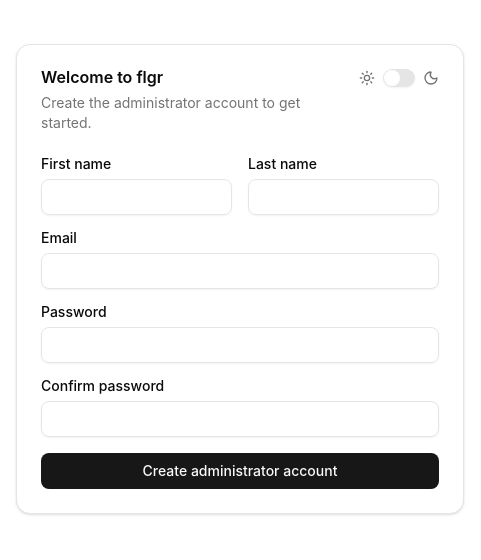
SetupWizardPage › shows an error when the email is malformed
Type "not-an-email" into the field labelled "Email".
click(240, 271); type("not-an-email")  # box [41,253,439,289]
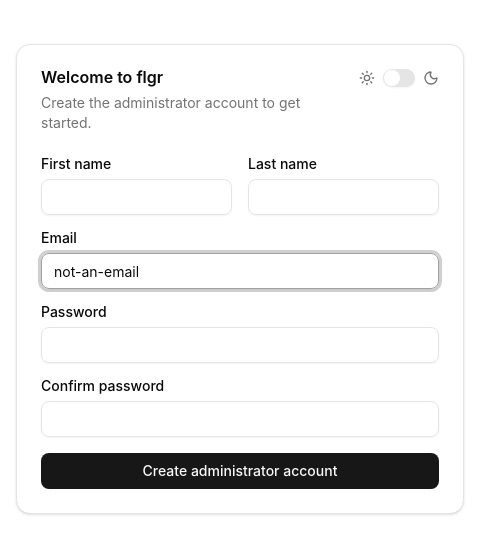
Type "supersecret" into the password field labelled "Password".
click(240, 345); type("supersecret")  # box [41,327,439,363]
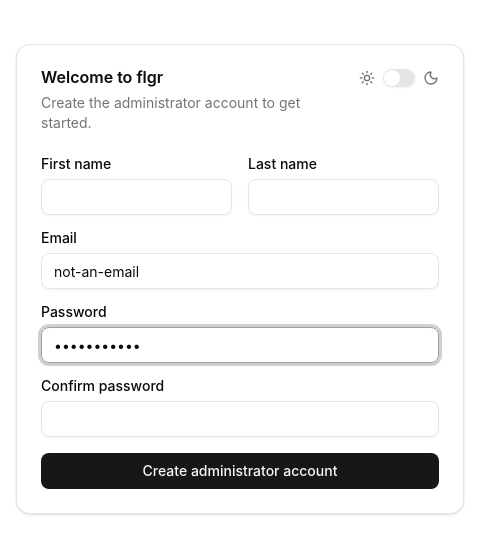
Type "supersecret" into the password field labelled "Confirm password".
click(240, 419); type("supersecret")  # box [41,401,439,437]
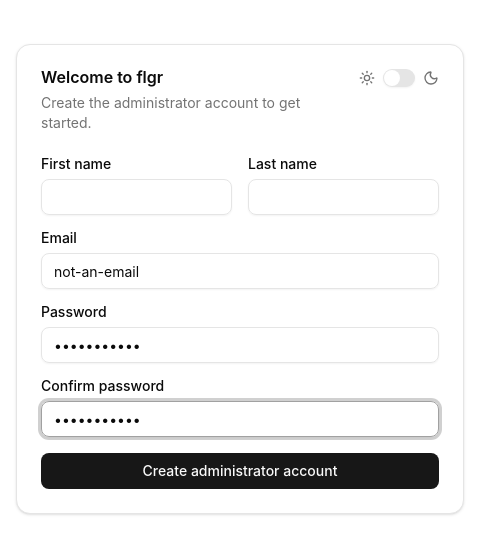
Click the button "Create administrator account".
click(240, 471)  # box [41,453,439,489]
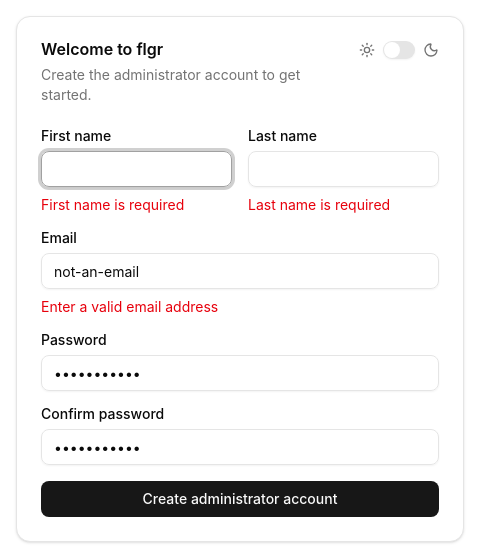
expect the text "Enter a valid email address" is shown: met, box [41,298,218,315]
